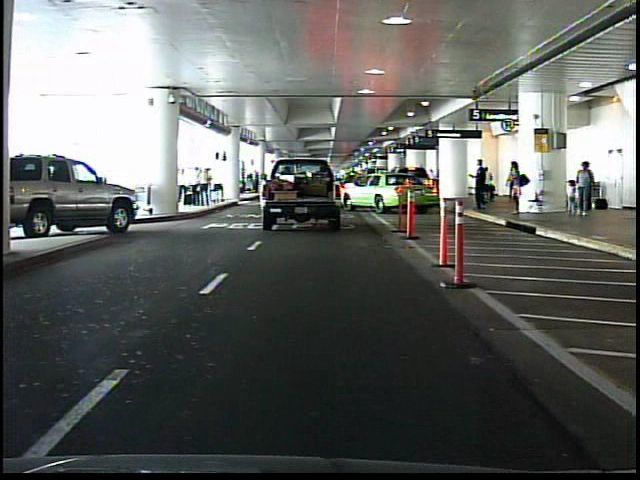person: (505, 155, 526, 217), (469, 154, 490, 214), (483, 160, 497, 210)
